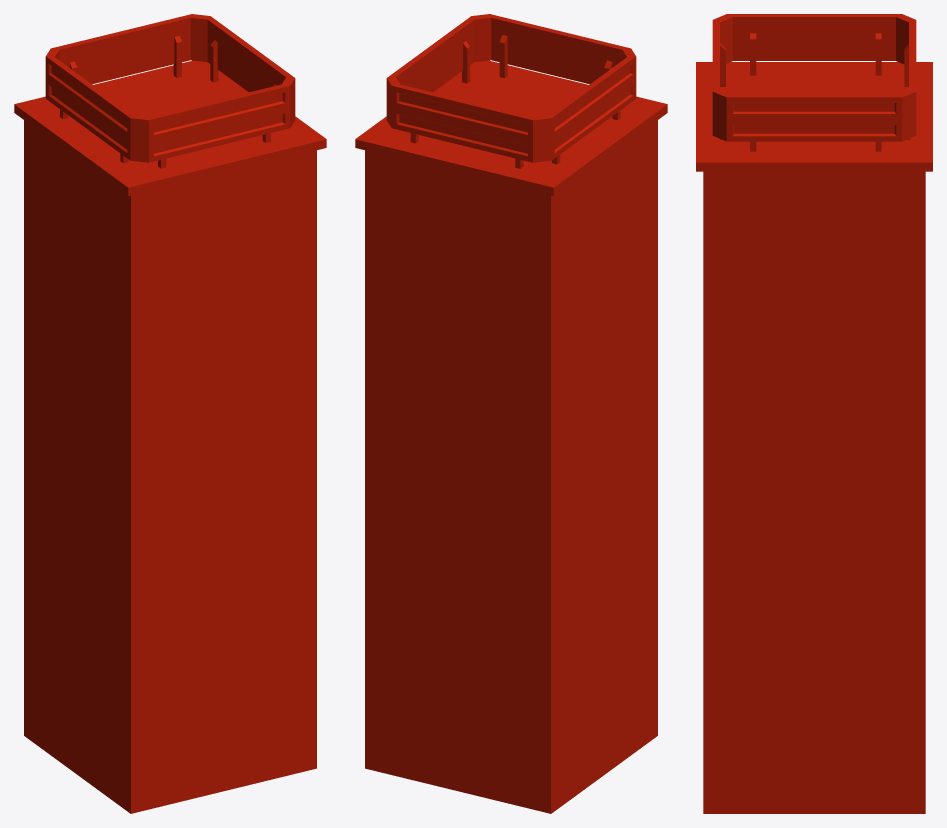
The model's file is parking_chimney.FBX.
3 views of the same model, side by side, from view 1: azimuth 30°, elevation 25°; view 2: azimuth 150°, elevation 25°; view 3: azimuth 270°, elevation 25° (orthographic). The views are drawn at different scales.
Parts seen in each view (by area): view 1: parking_chimney; view 2: parking_chimney; view 3: parking_chimney.
Part boxes in pixels (x1,y1,x2,y2): parking_chimney: [14, 14, 326, 813]; parking_chimney: [355, 14, 667, 813]; parking_chimney: [696, 14, 932, 813].
Bounding box in the file's own units: 1.63 × 5.37 × 1.62.
